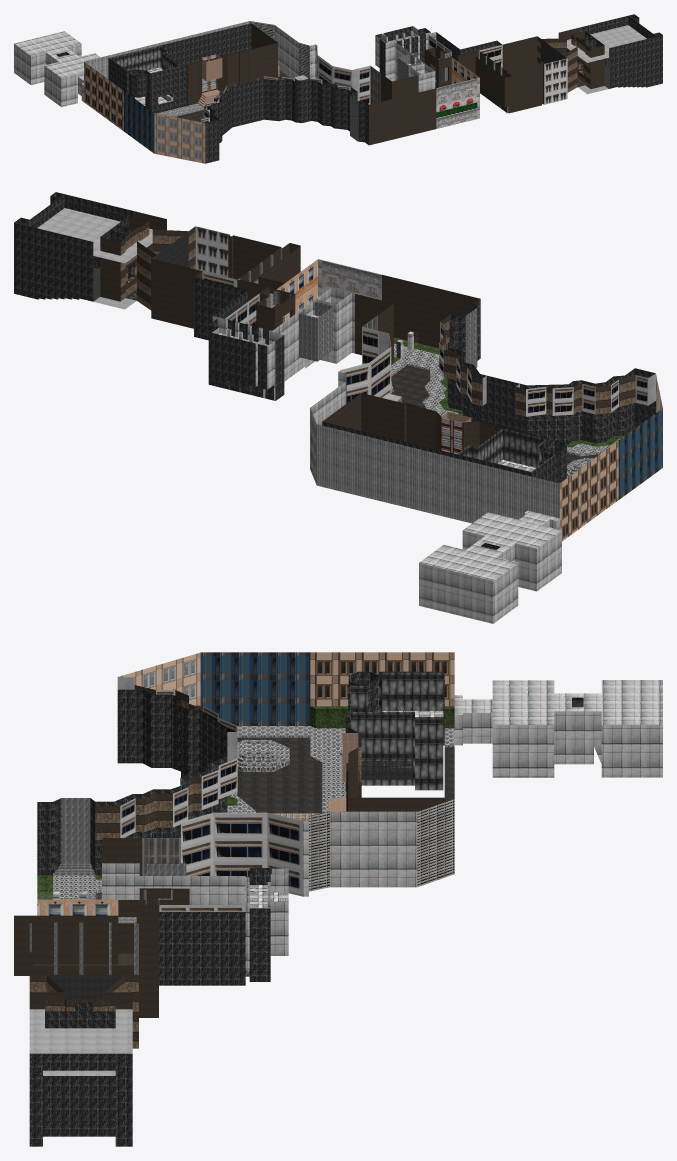
Rendered from mid2.FBX.
3 views of the same model, one above another, from view 1: azimuth 30°, elevation 25°; view 2: azimuth 150°, elevation 25°; view 3: azimuth 270°, elevation 25° (orthographic). The views are drawn at different scales.
Visible parts, largest first — view 1: mid2; view 2: mid2; view 3: mid2.
Boxes of the visible parts, x1,y1,x2,y2 form: mid2: (14,14,662,163); mid2: (14,192,662,623); mid2: (14,652,662,1146).
Bounding box in the file's own units: 14225 × 9349 × 1451.
